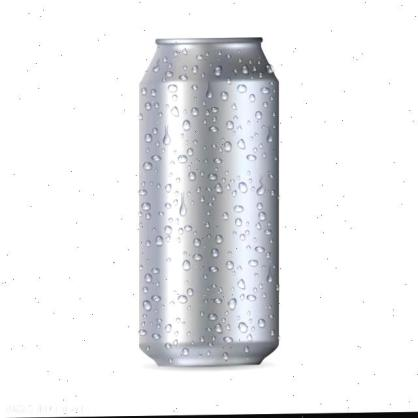can: (135, 32, 283, 368)
